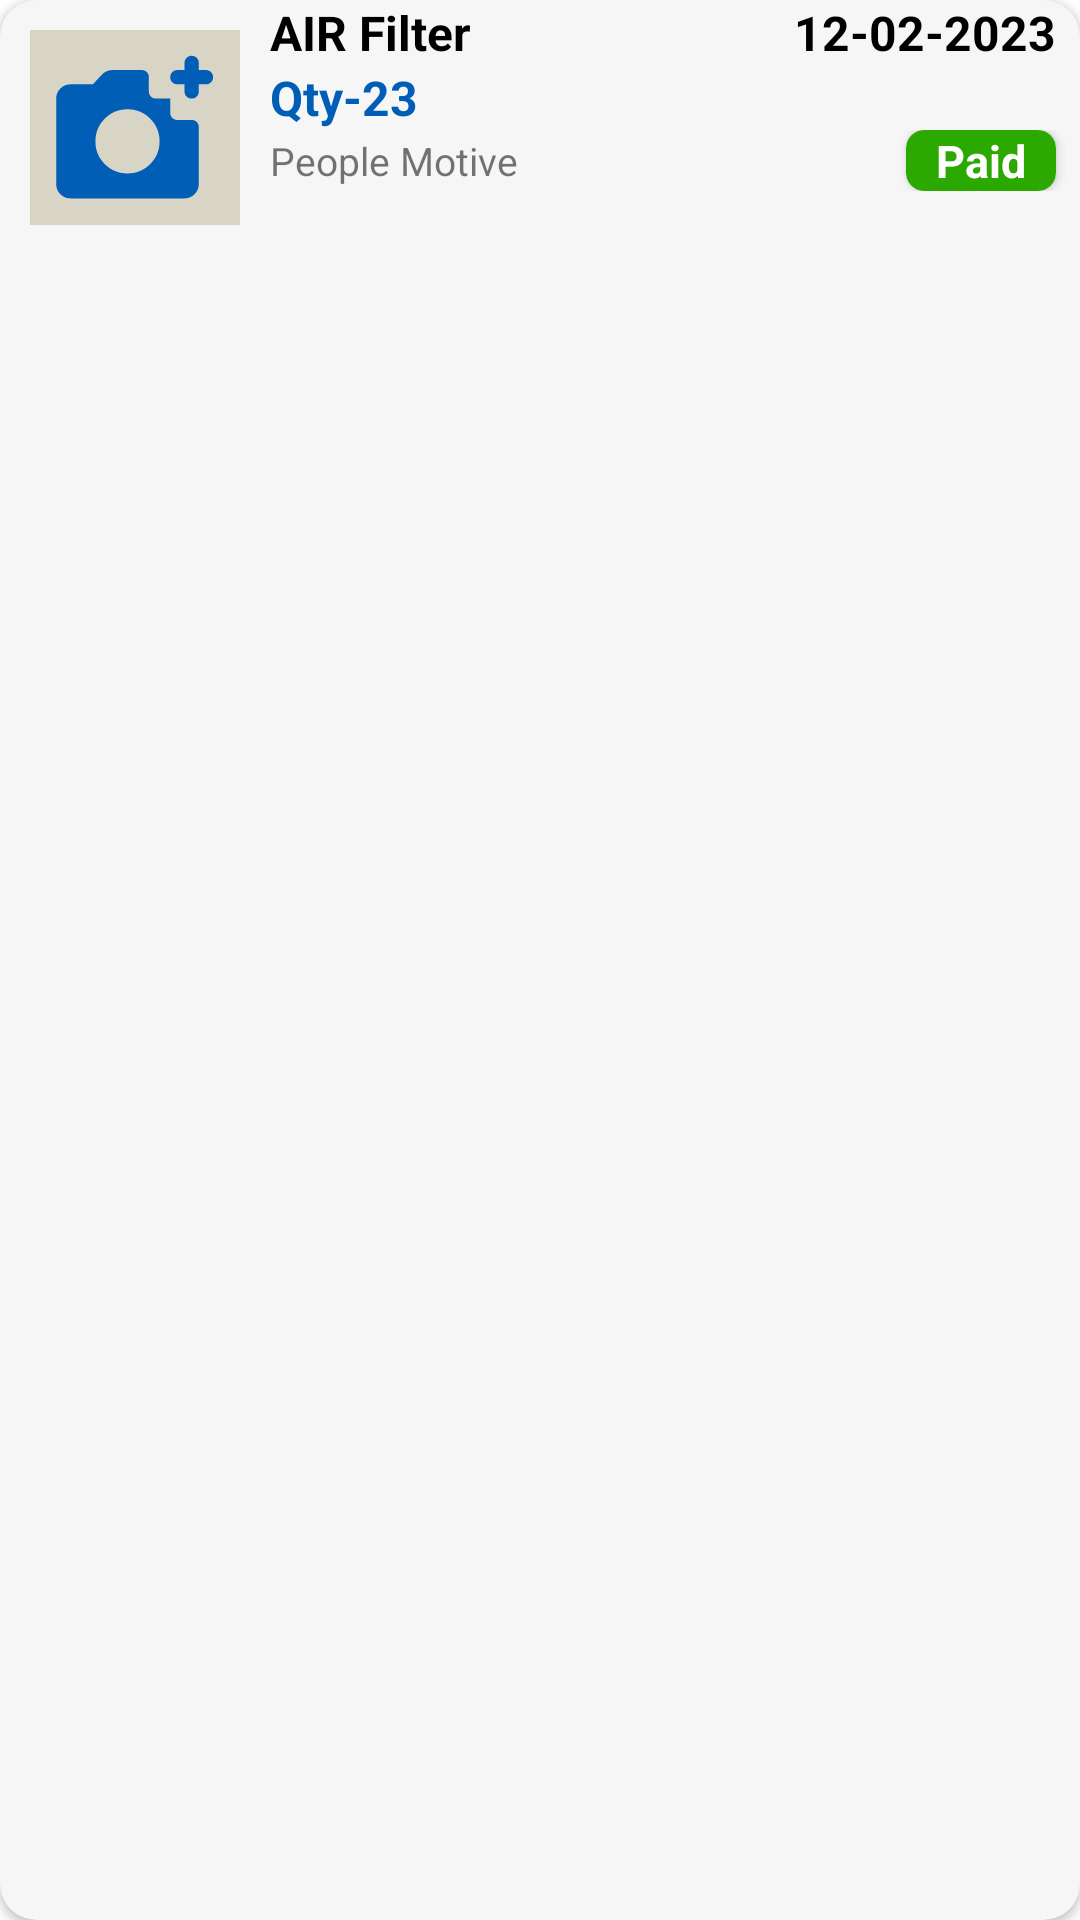

Named icons in this screenshot (1080 × 1920) and their bounding boxes, (x1, y1, x2, y2):
camera: (30, 30, 240, 225)
